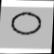no answer: (7, 9, 44, 36)
